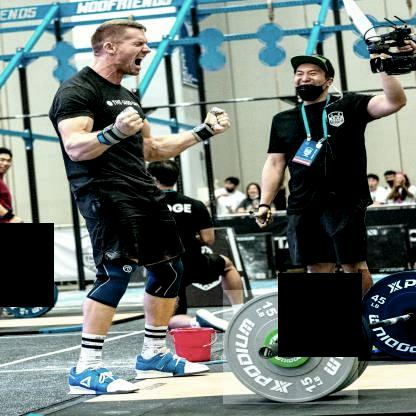barbell: (224, 290, 359, 405), (359, 269, 416, 361)
